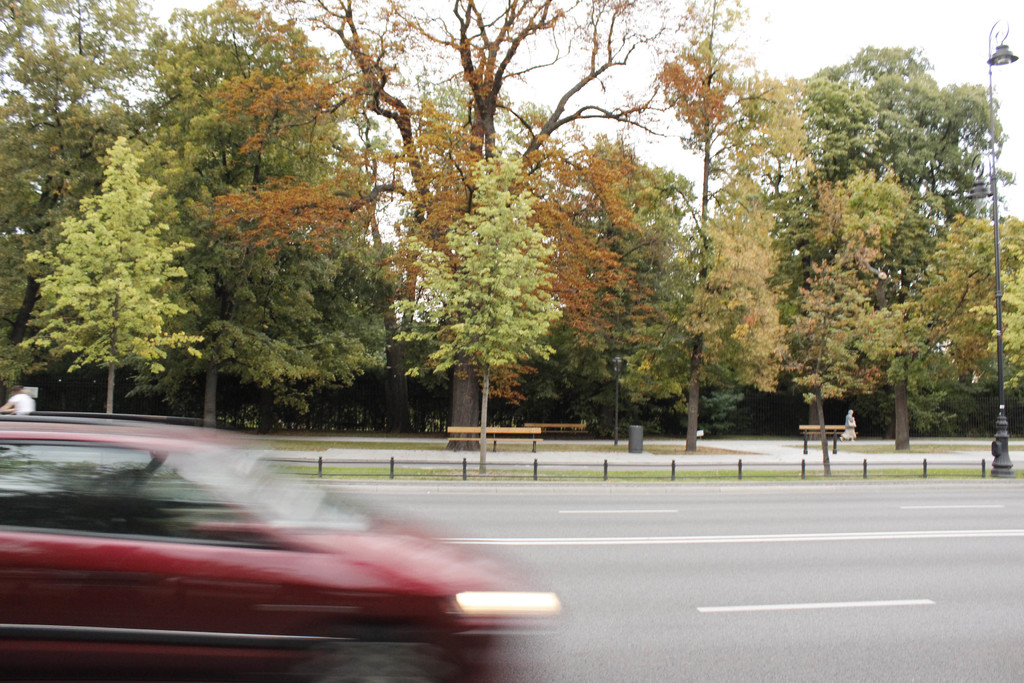Car: (0, 406, 558, 682)
